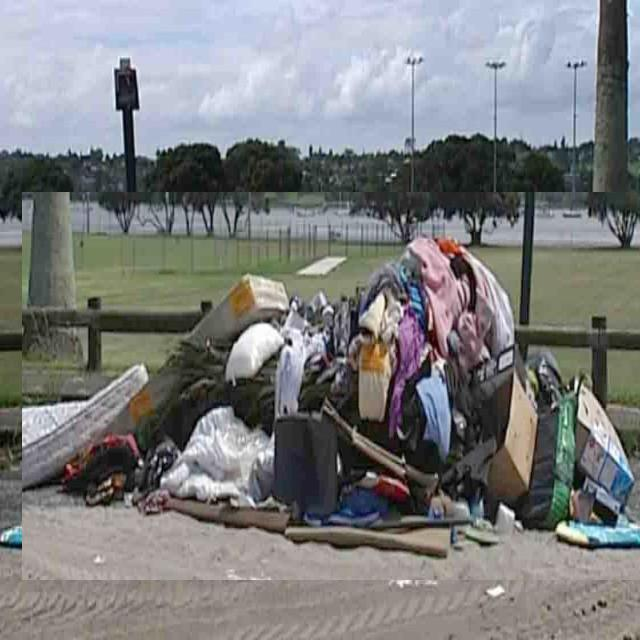dumping: (22, 192, 640, 580)
